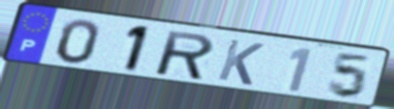0: (55, 18, 104, 66)
1: (122, 25, 154, 75), (287, 46, 314, 94)
5: (323, 50, 375, 99)
K: (214, 37, 267, 88)
R: (154, 29, 216, 82)
